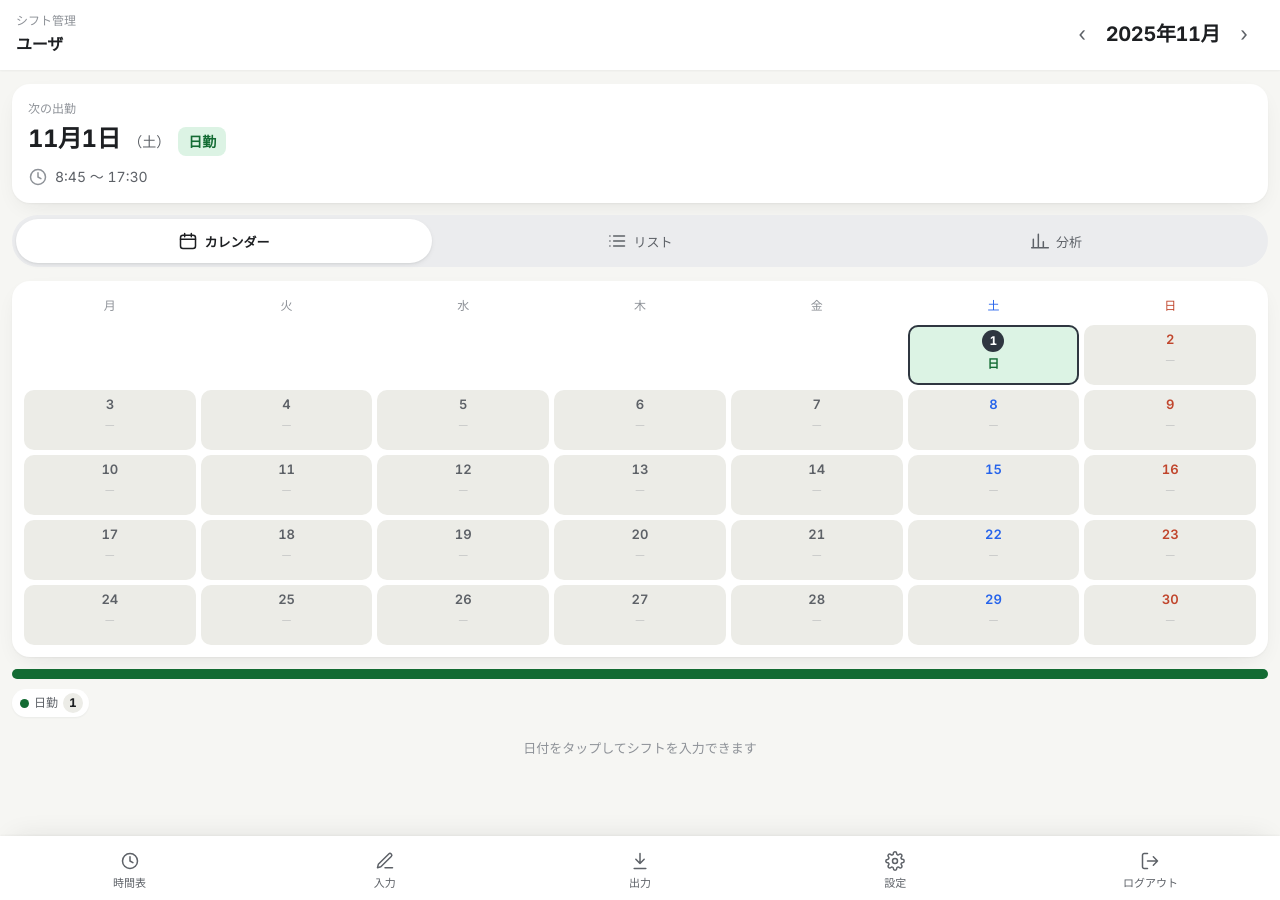
Test: 分析ビュー › 見方ボタンでヘルプが開き、閉じるで消える
The image size is (1280, 900).
Click the button "分析": (1056, 241) 848,219 -> 1264,263
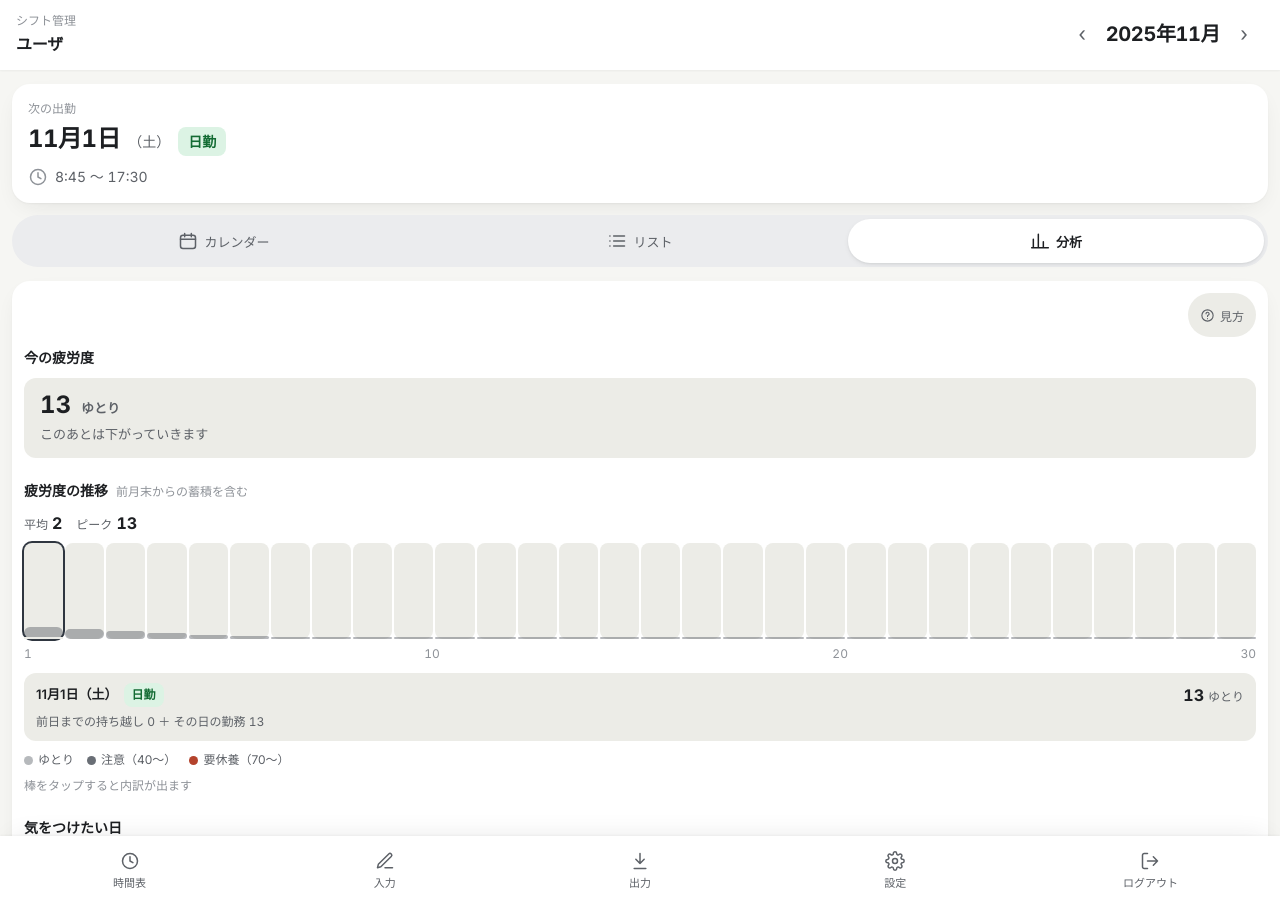
Click the button "見方": (1222, 315) 1188,293 -> 1256,337
(page scrolled)
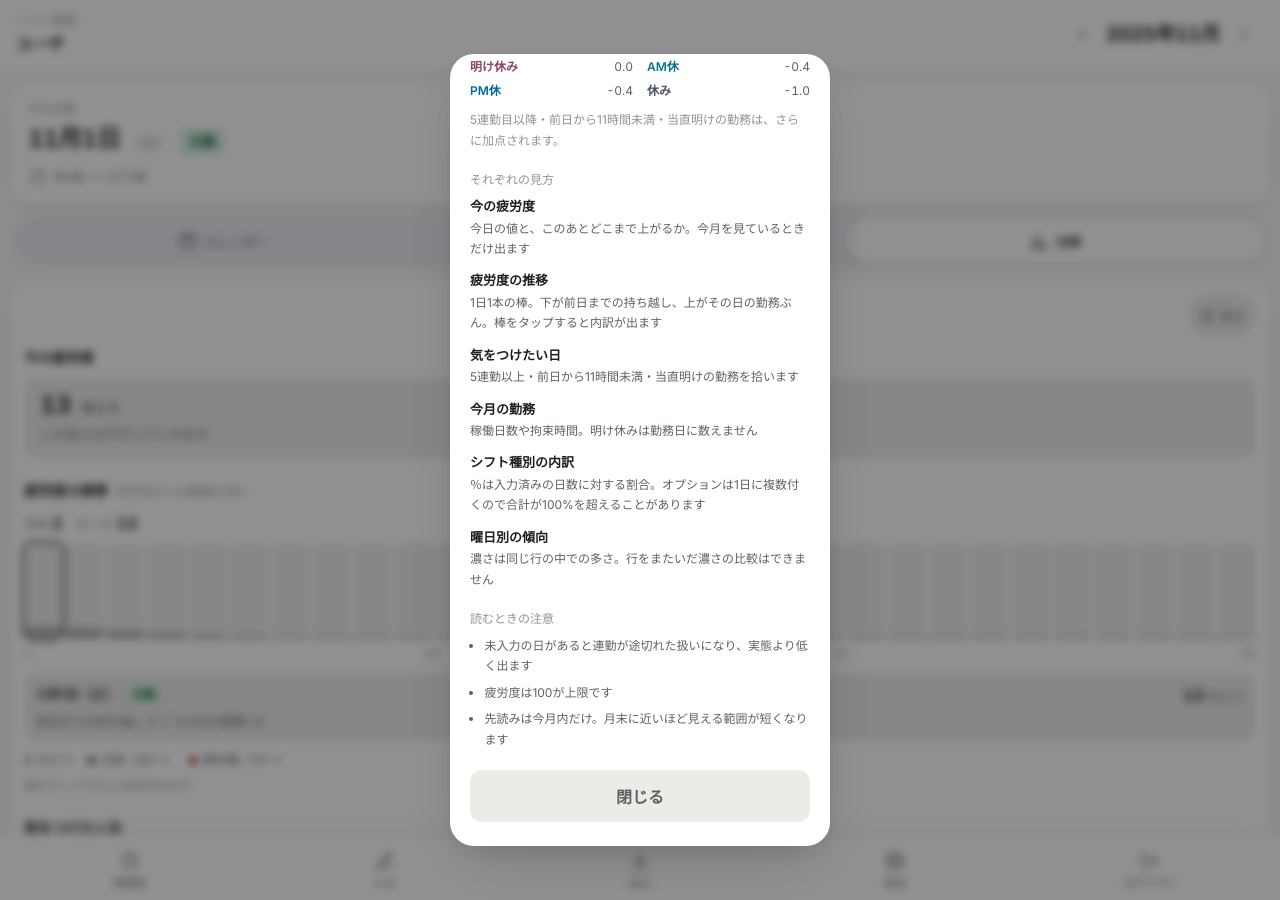
Check: the element with test id "analysis-help" is shown, box 450,54 -> 830,846
Click the button "閉じる": (640, 796) 470,770 -> 810,822
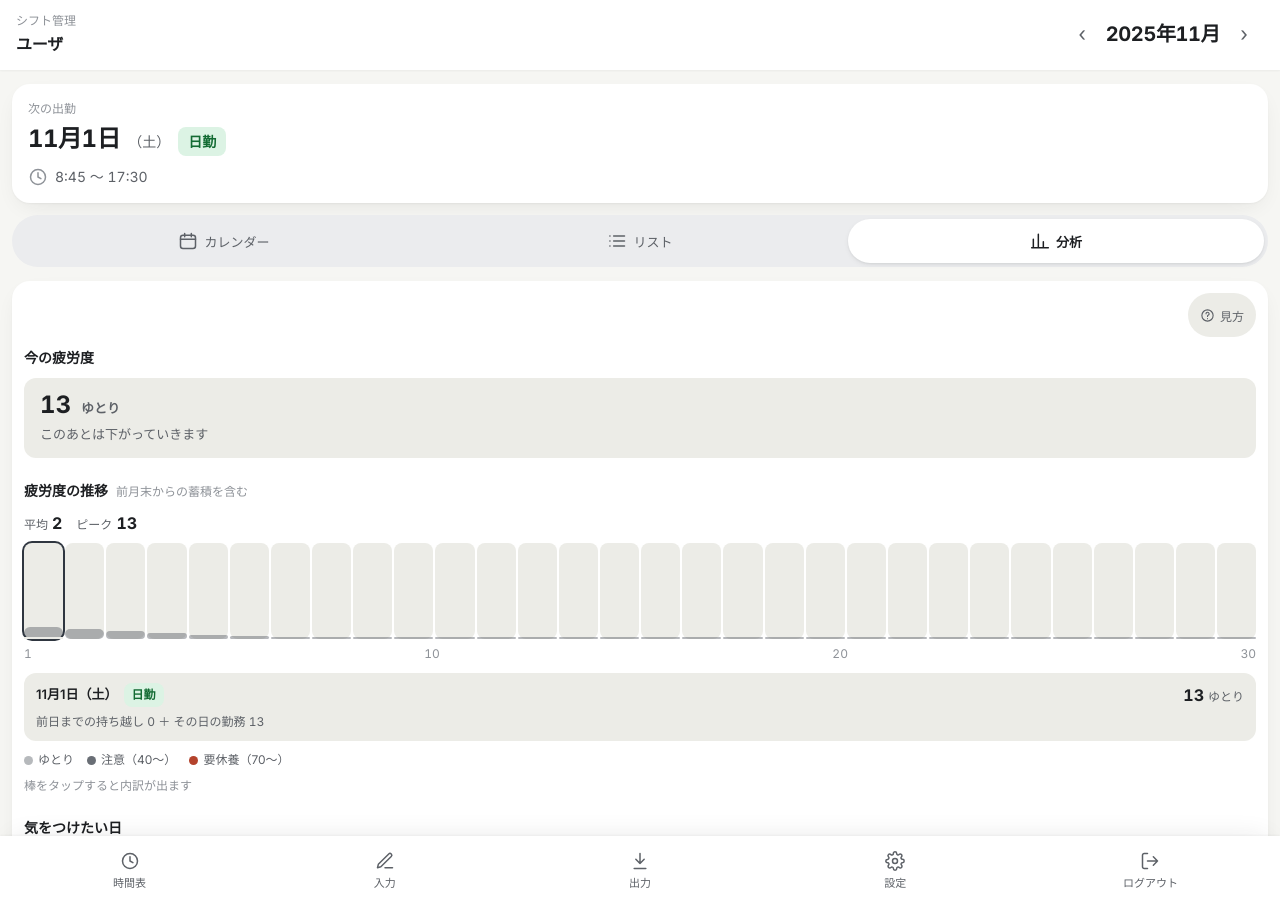
Check: the element with test id "analysis-help" is gone
